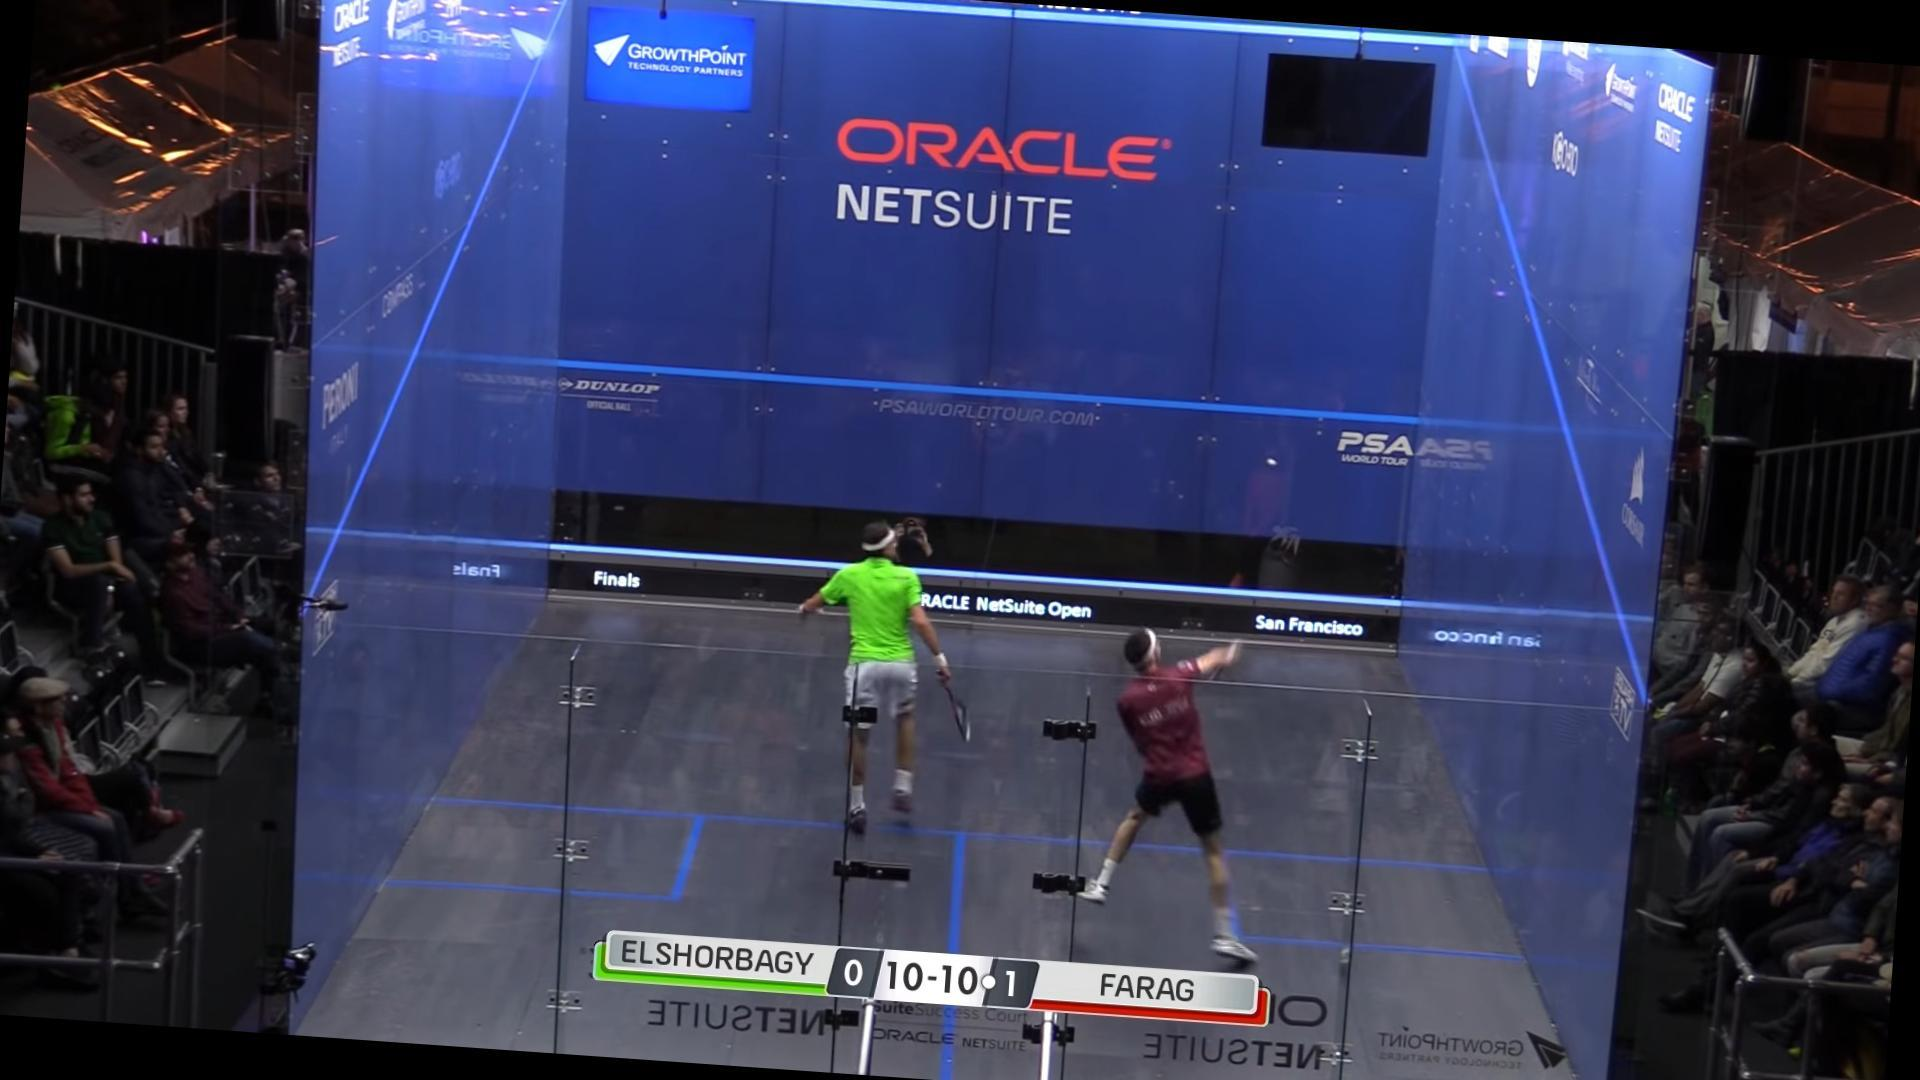Squash-Ball: (1262, 454, 1279, 473)
